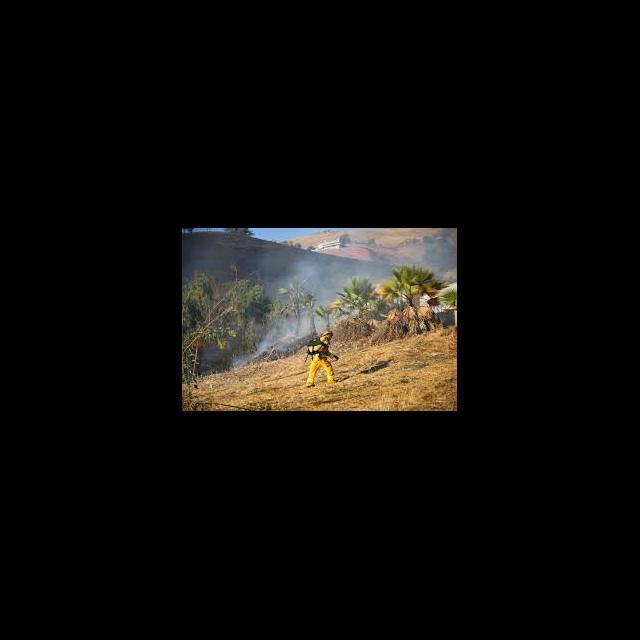Smoke: (229, 258, 333, 370)
